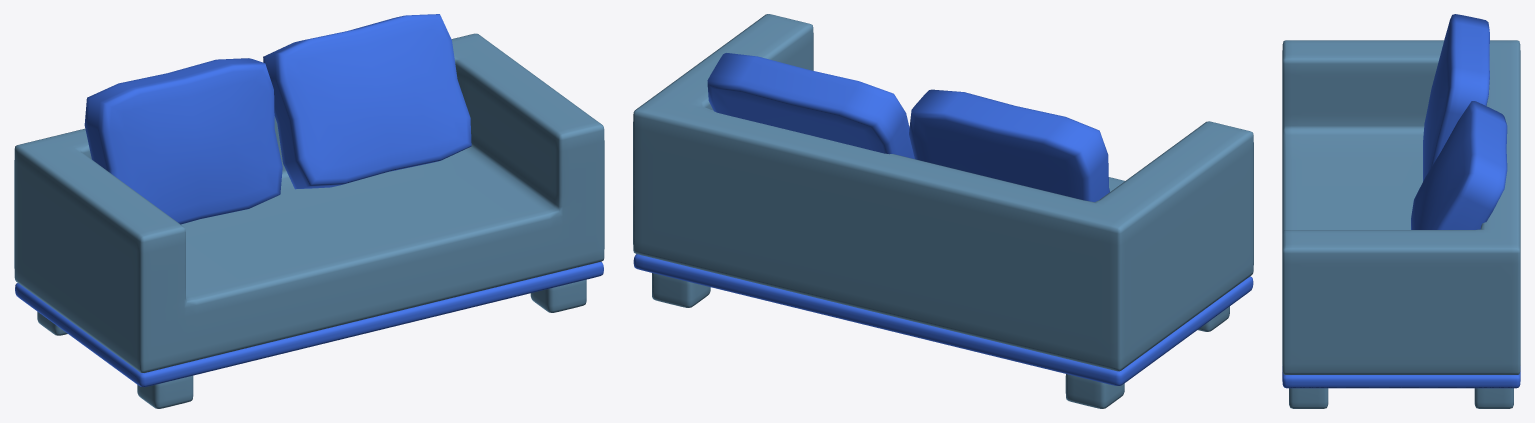
The model's file is sofa-two.fbx.
3 renders of one model, left to right at view 1: azimuth 30°, elevation 25°; view 2: azimuth 150°, elevation 25°; view 3: azimuth 270°, elevation 25°, orthographic. The views are drawn at different scales.
Visible parts, largest first — view 1: sofa-two; view 2: sofa-two; view 3: sofa-two.
Boxes of the visible parts, x1,y1,x2,y2 form: sofa-two: (14,14,604,408); sofa-two: (633,14,1253,408); sofa-two: (1282,14,1520,408).
Size of the model in its own units: 823 by 407 by 394.
